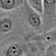cell: (20, 14, 34, 23), (29, 30, 40, 41), (44, 42, 55, 53), (28, 1, 42, 9), (40, 23, 50, 34), (6, 37, 18, 46), (45, 10, 55, 20), (14, 26, 25, 35), (1, 19, 10, 29), (26, 46, 37, 54)
